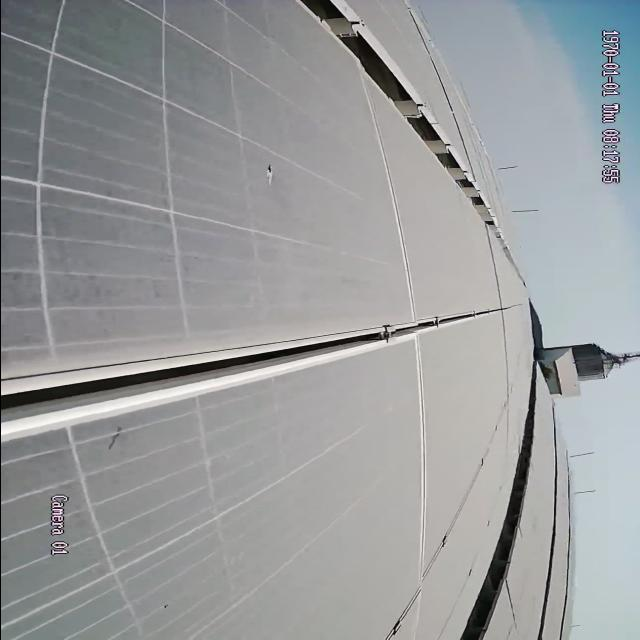interior panel: (0, 303, 520, 439), (362, 97, 430, 317), (410, 353, 435, 541)
outher panel: (293, 4, 506, 248), (455, 381, 541, 636)
